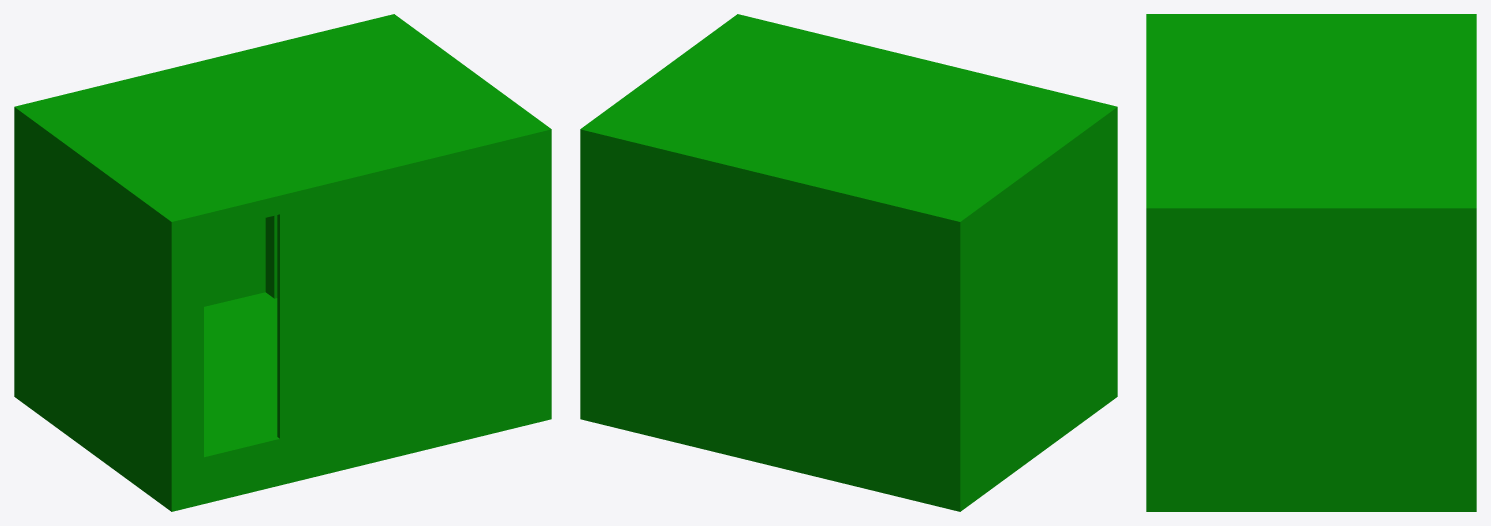
File: cave1_rdc.obj
3 views of the same model, side by side, from view 1: azimuth 30°, elevation 25°; view 2: azimuth 150°, elevation 25°; view 3: azimuth 270°, elevation 25° (orthographic). The views are drawn at different scales.
Visible parts, largest first — view 1: Cave1_RDC_Cube.015; view 2: Cave1_RDC_Cube.015; view 3: Cave1_RDC_Cube.015.
Part boxes in pixels (x1,y1,x2,y2): Cave1_RDC_Cube.015: [14, 14, 551, 511]; Cave1_RDC_Cube.015: [580, 14, 1117, 511]; Cave1_RDC_Cube.015: [1146, 14, 1476, 511].
Bounding box in the file's own units: 4.25 × 3.1 × 3.05.
